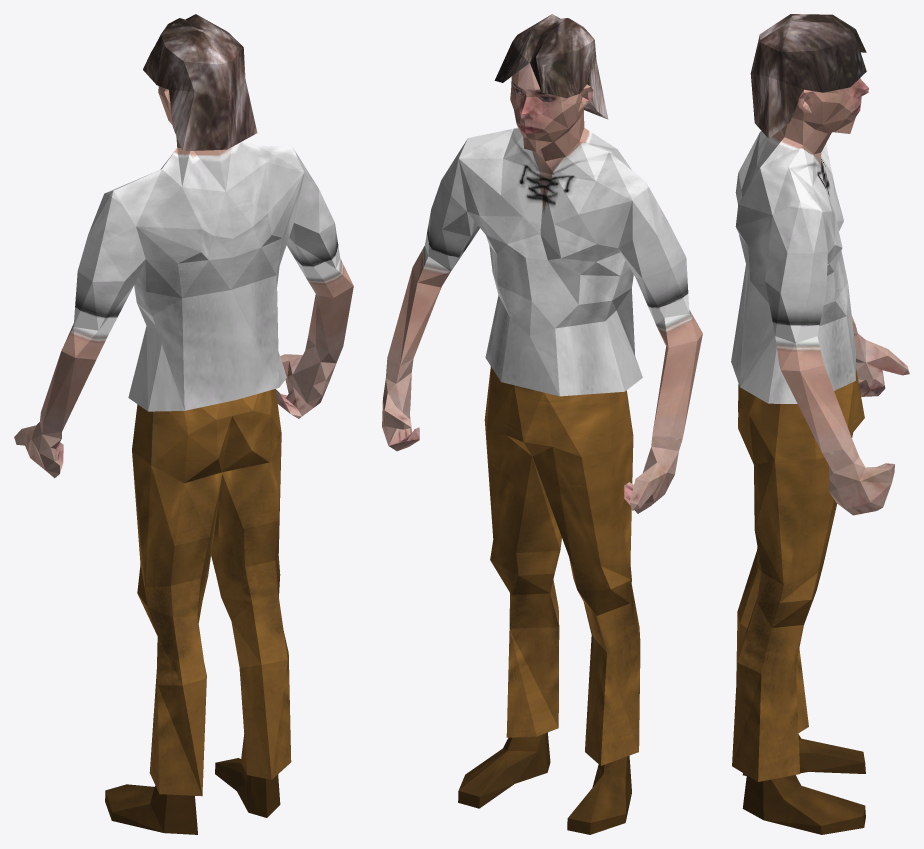
The model's file is drone.dae.
3 renders of one model, left to right at view 1: azimuth 30°, elevation 25°; view 2: azimuth 150°, elevation 25°; view 3: azimuth 270°, elevation 25°, orthographic.
Parts seen in each view (by area): view 1: Mesh01; view 2: Mesh01; view 3: Mesh01.
Boxes of the visible parts, x1,y1,x2,y2 form: Mesh01: (14,14,353,834); Mesh01: (382,14,702,834); Mesh01: (731,14,909,834).
Bounding box in the file's own units: 2.92 × 7.39 × 1.54.
Materials: 1 (1 with a texture image).
